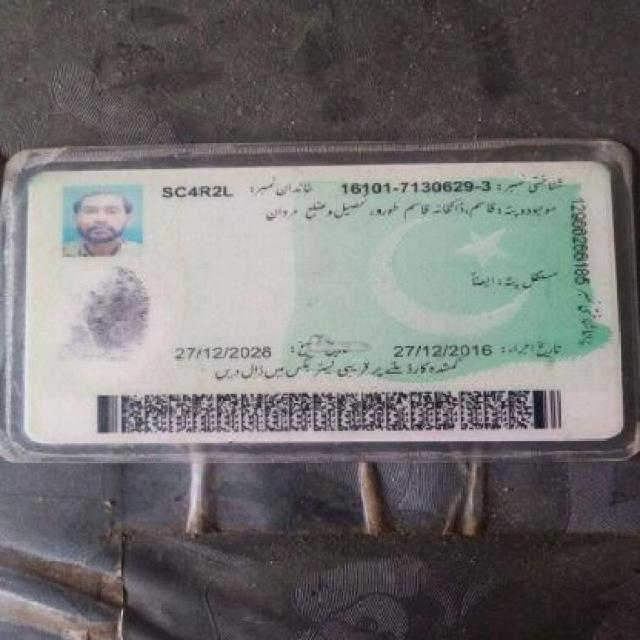Back: (10, 160, 628, 448)
